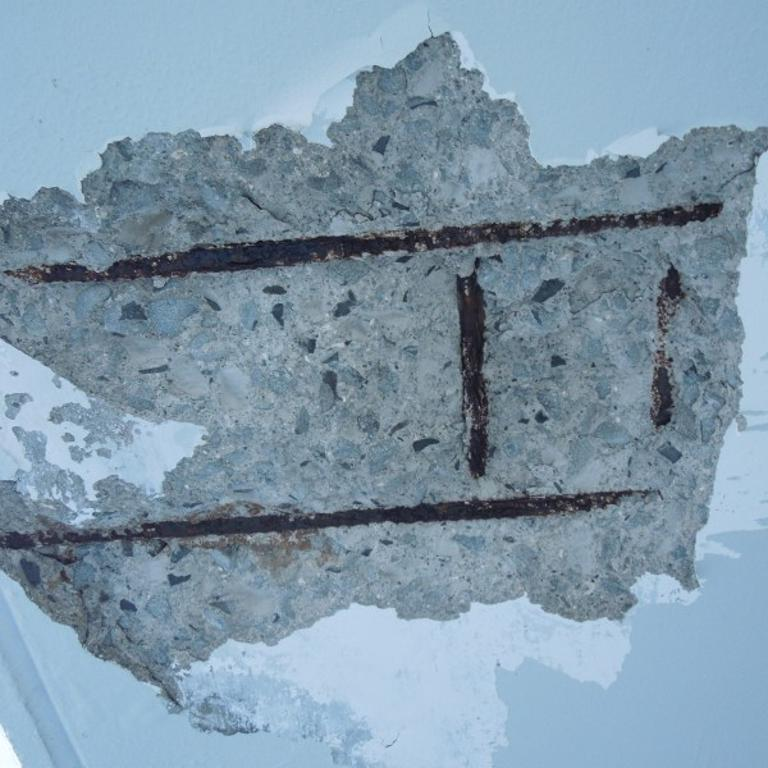exposed_rebar: (8, 202, 723, 284), (0, 489, 646, 547), (456, 261, 489, 478), (650, 266, 686, 427)
spalling: (0, 34, 768, 706)
